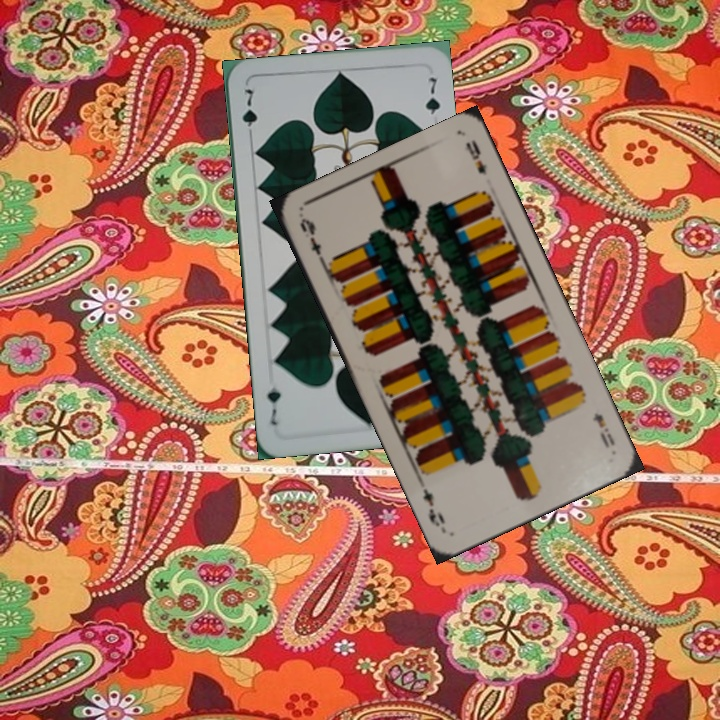E9: (295, 213, 329, 269), (588, 408, 618, 451)
G7: (238, 83, 260, 143)
